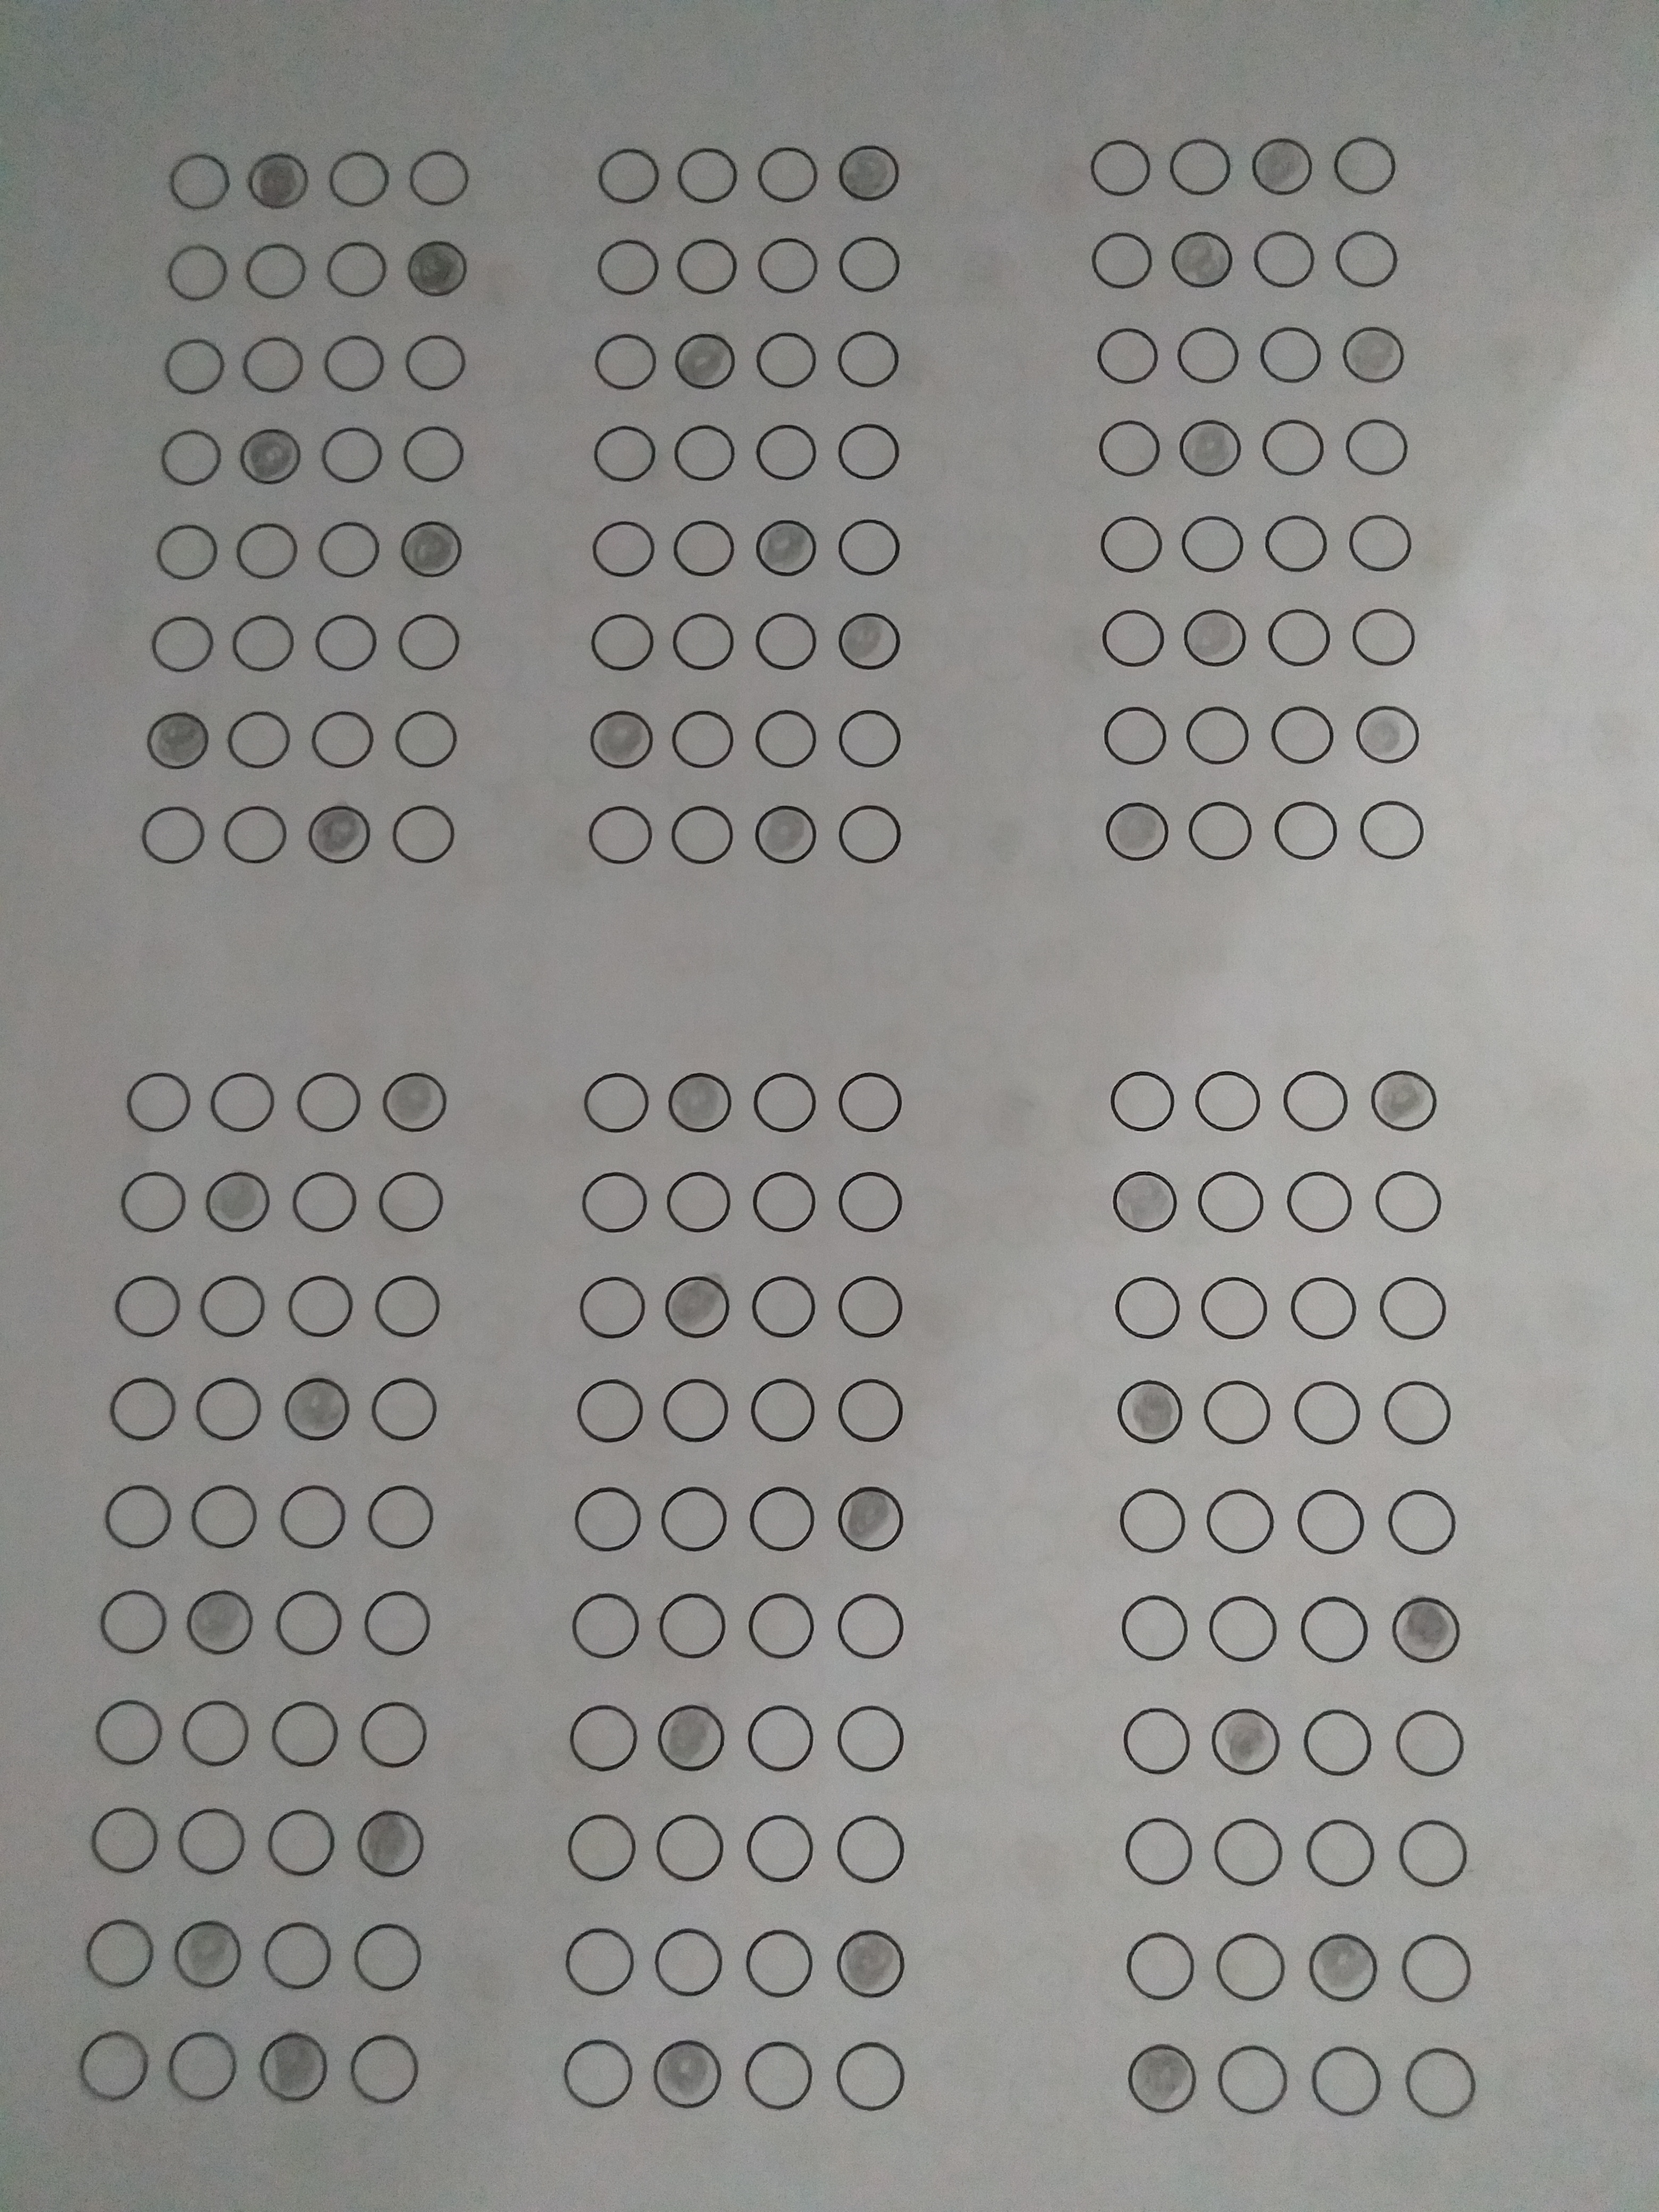not-c: (652, 1925, 732, 2000), (552, 2038, 633, 2113), (1122, 1930, 1202, 2005), (1121, 1817, 1201, 1892), (70, 2027, 148, 2102), (559, 1923, 638, 1998), (737, 1926, 816, 2001), (1399, 1932, 1478, 2006), (159, 2027, 237, 2102), (263, 1923, 342, 1998), (833, 2045, 913, 2118), (1303, 2040, 1384, 2113), (1216, 2041, 1297, 2114), (347, 2031, 427, 2104), (343, 1923, 423, 1996), (659, 1374, 735, 1449), (742, 2038, 821, 2111), (1403, 2045, 1481, 2118), (1213, 1930, 1291, 2003), (80, 1918, 159, 1991), (671, 421, 746, 489), (669, 233, 744, 301), (584, 611, 659, 679), (587, 516, 662, 583), (587, 420, 662, 488), (399, 329, 474, 397), (399, 421, 474, 489), (389, 608, 464, 676), (387, 801, 462, 869), (317, 421, 392, 489), (322, 235, 397, 303), (223, 705, 298, 773), (216, 799, 291, 867), (146, 610, 221, 678), (227, 517, 301, 585), (242, 329, 317, 397), (240, 240, 315, 308), (136, 798, 211, 866), (152, 423, 227, 491), (157, 331, 232, 399), (157, 240, 232, 308), (833, 514, 908, 582), (753, 611, 828, 679), (751, 704, 826, 772), (669, 801, 744, 869), (749, 329, 824, 397), (1269, 794, 1344, 862), (1183, 798, 1258, 866), (1182, 698, 1256, 766), (1175, 512, 1249, 580), (1248, 219, 1323, 287), (1091, 509, 1166, 577), (835, 421, 910, 489), (831, 329, 906, 397), (1331, 226, 1406, 294), (660, 1484, 735, 1552), (662, 1170, 737, 1238), (572, 1592, 647, 1660), (573, 1486, 648, 1554), (575, 1371, 650, 1439), (579, 1273, 653, 1341), (582, 1169, 657, 1237), (204, 1068, 279, 1136), (267, 1590, 342, 1658), (277, 1484, 352, 1552), (286, 1273, 361, 1341), (284, 1165, 359, 1233), (359, 1703, 434, 1771), (362, 1588, 437, 1656), (364, 1482, 439, 1550), (364, 1376, 439, 1444), (368, 1277, 443, 1345), (371, 1162, 446, 1230), (744, 1270, 819, 1338), (833, 1165, 908, 1233), (749, 1167, 824, 1235), (563, 1811, 638, 1879), (96, 1592, 171, 1660), (105, 1480, 179, 1548), (183, 1486, 258, 1554), (190, 1376, 265, 1444), (195, 1275, 270, 1343), (1279, 1170, 1354, 1238), (836, 1595, 911, 1663), (838, 1378, 913, 1446), (1188, 1170, 1263, 1238), (1117, 1709, 1192, 1777), (1121, 1595, 1195, 1663), (1110, 1278, 1185, 1346), (1110, 1066, 1185, 1134), (1307, 1820, 1382, 1888), (1202, 1592, 1277, 1660), (1298, 1595, 1373, 1663), (1295, 1482, 1370, 1550), (1385, 1487, 1460, 1555), (1384, 1378, 1459, 1446), (1284, 1273, 1359, 1341), (1366, 1165, 1441, 1233), (751, 143, 826, 211), (669, 514, 742, 582), (587, 803, 660, 871), (589, 327, 662, 395), (592, 146, 666, 214), (591, 233, 664, 301), (305, 707, 378, 775), (312, 516, 385, 583), (314, 331, 387, 399), (227, 610, 300, 678), (322, 148, 396, 216), (1270, 704, 1344, 772), (1356, 794, 1429, 862), (667, 707, 741, 775), (666, 610, 739, 678), (751, 425, 824, 493), (835, 232, 908, 300), (753, 233, 826, 301), (1166, 134, 1239, 202), (1084, 134, 1157, 202), (1093, 327, 1166, 395), (1094, 416, 1168, 484), (838, 704, 911, 772), (1166, 326, 1239, 394), (1258, 509, 1331, 577), (1342, 413, 1415, 481), (748, 1482, 821, 1550), (579, 1069, 652, 1137), (267, 1700, 340, 1768), (751, 1372, 824, 1440), (835, 1273, 908, 1341), (80, 1808, 153, 1876), (179, 1804, 253, 1872), (113, 1165, 186, 1233), (650, 1811, 723, 1879), (833, 1818, 906, 1886), (836, 1705, 910, 1773), (1279, 1071, 1352, 1139), (1194, 1273, 1267, 1341), (1298, 1707, 1371, 1775), (1291, 1374, 1364, 1442), (159, 150, 232, 218), (1326, 132, 1401, 199), (674, 143, 749, 209), (406, 146, 481, 212), (390, 709, 465, 775), (308, 610, 383, 676), (1098, 608, 1173, 674), (1101, 702, 1176, 768), (1251, 324, 1326, 390), (1255, 413, 1330, 479), (1260, 606, 1335, 672), (1342, 512, 1417, 578), (565, 1702, 640, 1768), (291, 1068, 366, 1134), (838, 1068, 913, 1134), (755, 1069, 829, 1136), (92, 1696, 167, 1763), (179, 1700, 254, 1766), (106, 1378, 181, 1444), (108, 1270, 183, 1336), (122, 1071, 197, 1137), (744, 1817, 819, 1883), (744, 1707, 819, 1773), (748, 1595, 823, 1662), (1194, 1068, 1269, 1134), (1114, 1487, 1188, 1554), (1398, 1822, 1473, 1888), (1392, 1707, 1467, 1773), (1377, 1277, 1452, 1343), (150, 519, 223, 585), (1087, 230, 1161, 296), (835, 799, 908, 866), (1347, 604, 1420, 671), (263, 1811, 336, 1878), (655, 1590, 728, 1656), (1215, 1820, 1288, 1886), (1206, 1489, 1279, 1555), (1202, 1381, 1276, 1447)
taken-c: (1305, 1928, 1385, 2001), (659, 1268, 734, 1345), (836, 1480, 911, 1557), (647, 2038, 721, 2114), (169, 1916, 244, 1993), (349, 1804, 423, 1881), (653, 1700, 728, 1775), (831, 1925, 906, 2000), (1122, 2043, 1197, 2118), (254, 2031, 329, 2106), (179, 1587, 254, 1662), (275, 1372, 350, 1447), (1206, 1703, 1283, 1775), (662, 1068, 737, 1136), (199, 1165, 274, 1233), (1387, 1595, 1462, 1663), (1101, 796, 1176, 864), (582, 705, 657, 773), (746, 512, 821, 580), (1175, 415, 1249, 482), (1241, 129, 1316, 197), (376, 1066, 451, 1134), (298, 799, 373, 867), (138, 705, 213, 773), (228, 421, 303, 489), (397, 233, 472, 301), (240, 146, 315, 214), (1112, 1372, 1185, 1440), (1366, 1066, 1439, 1134), (1349, 700, 1422, 768), (833, 608, 906, 676), (1338, 320, 1412, 388), (1164, 226, 1237, 294), (831, 136, 904, 204), (390, 514, 464, 582), (1107, 1169, 1182, 1235), (1176, 604, 1251, 671), (751, 799, 824, 866), (667, 329, 741, 390)
